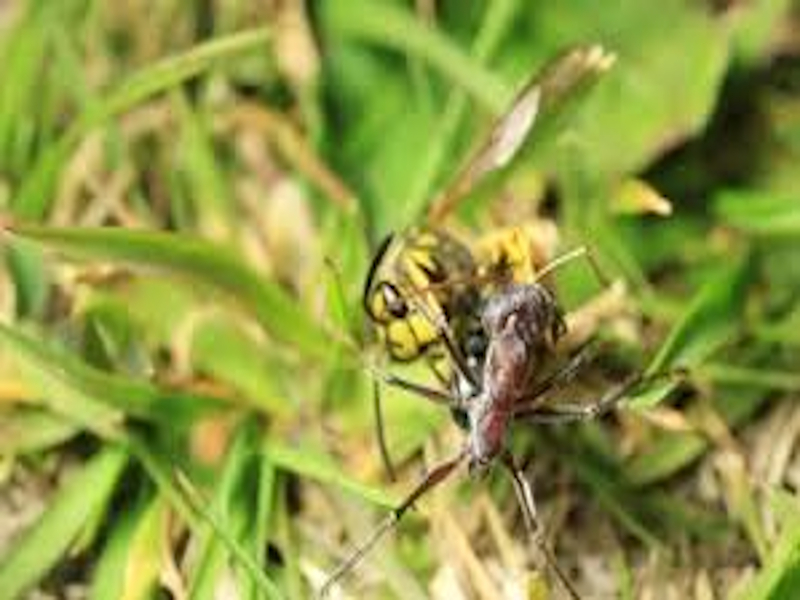chax: (350, 168, 579, 354)
